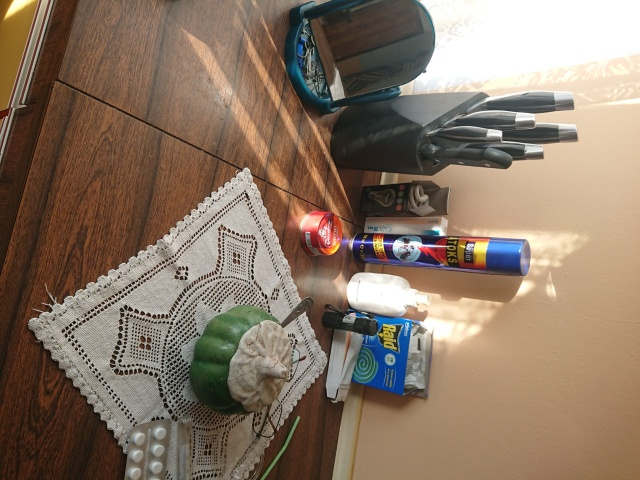Gavrilovic Pork Liver Pate 100g: (297, 208, 345, 259)
